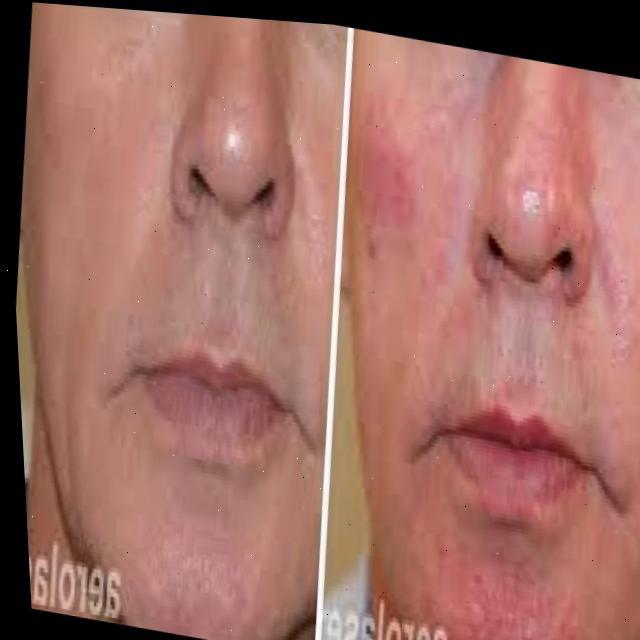Rosacea: (13, 7, 205, 288), (343, 83, 487, 315), (473, 52, 608, 255), (275, 65, 357, 298), (419, 536, 597, 640), (571, 146, 640, 389)
